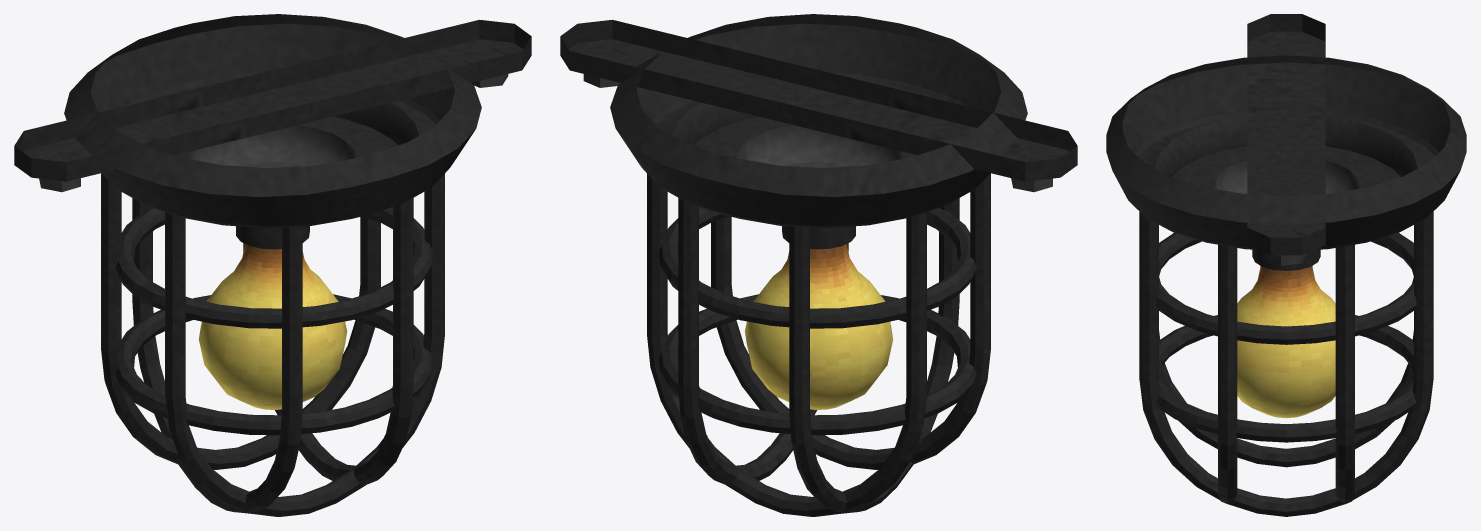
The model's file is lamp_0.obj.
The picture shows the model from 3 angles, left to right: view 1: azimuth 30°, elevation 25°; view 2: azimuth 150°, elevation 25°; view 3: azimuth 270°, elevation 25°; orthographic projection. The views are drawn at different scales.
Parts seen in each view (by area): view 1: lamp_0; view 2: lamp_0; view 3: lamp_0.
Part boxes in pixels (box(x1,y1,x2,y2)): lamp_0: box(14, 14, 531, 516); lamp_0: box(560, 14, 1077, 516); lamp_0: box(1106, 14, 1466, 516).
Size of the model in its own units: 0.27 by 0.206 by 0.1839.
